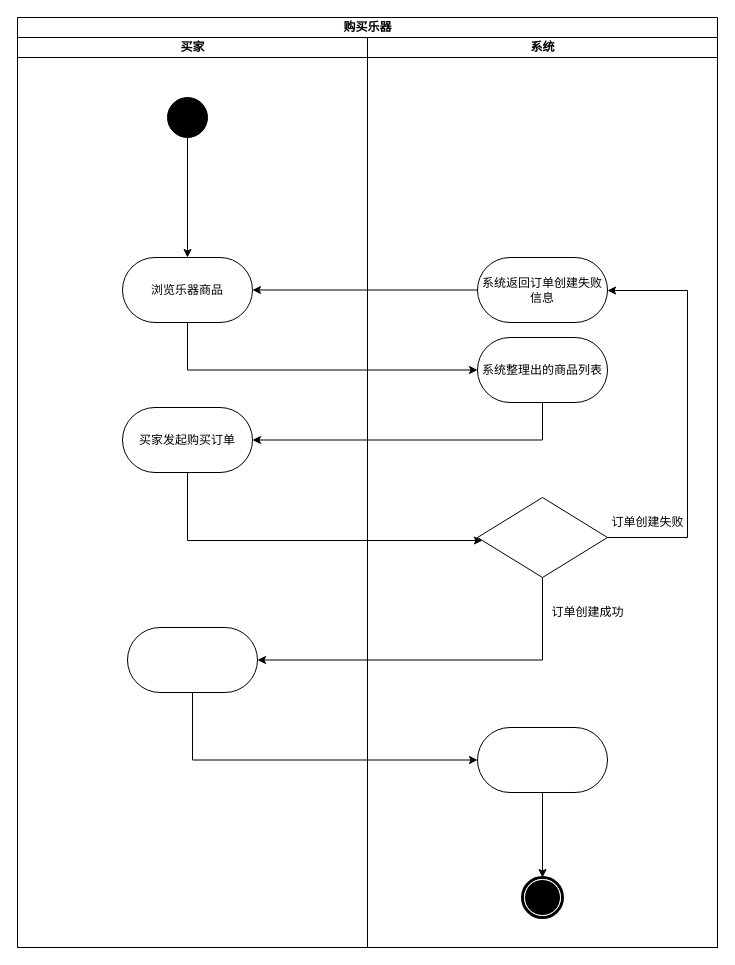
The diagram is 735 pixels wide and 965 high, and some of its shapes have lost their labels. Each missing label, with the centre of its shape:
买家支付订单: (x=192, y=659)
系统确认支付结果，提醒卖家发货: (x=542, y=759)
系统返回订单创建结果: (x=542, y=537)
